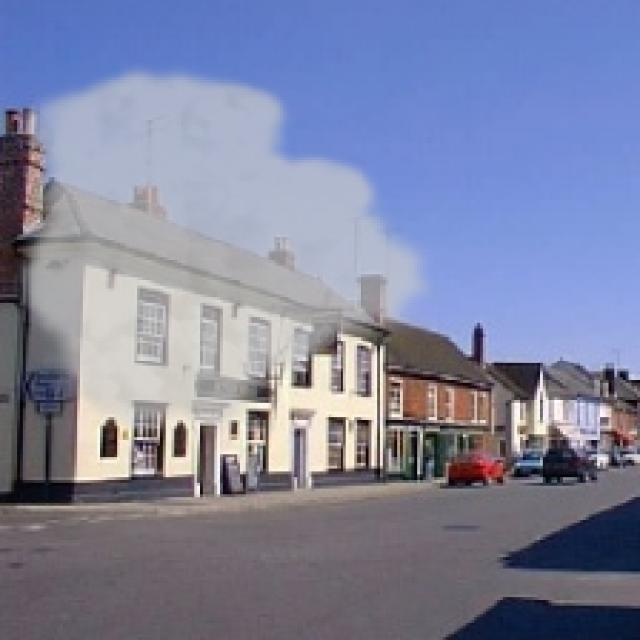smoke: (14, 63, 440, 443)
